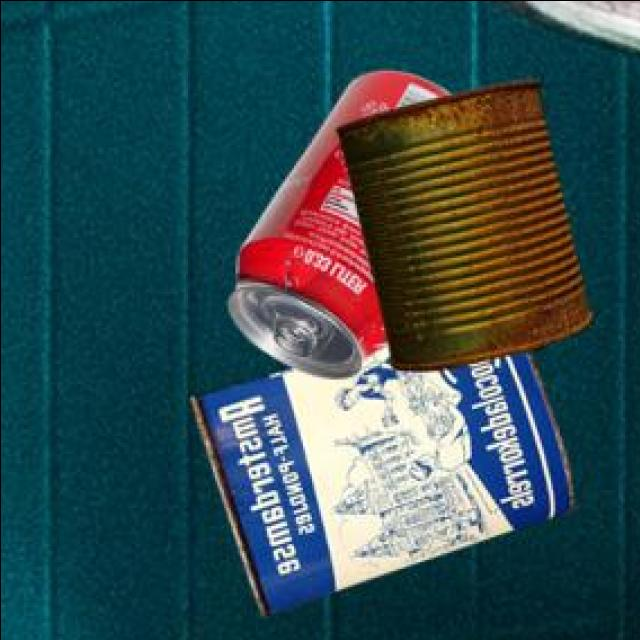logam: (188, 348, 569, 619), (332, 82, 587, 373), (224, 73, 447, 382)
